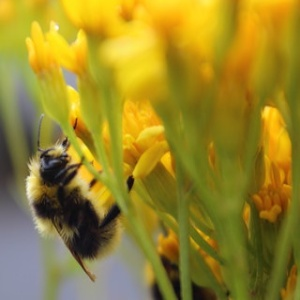bee: (26, 115, 128, 286)
